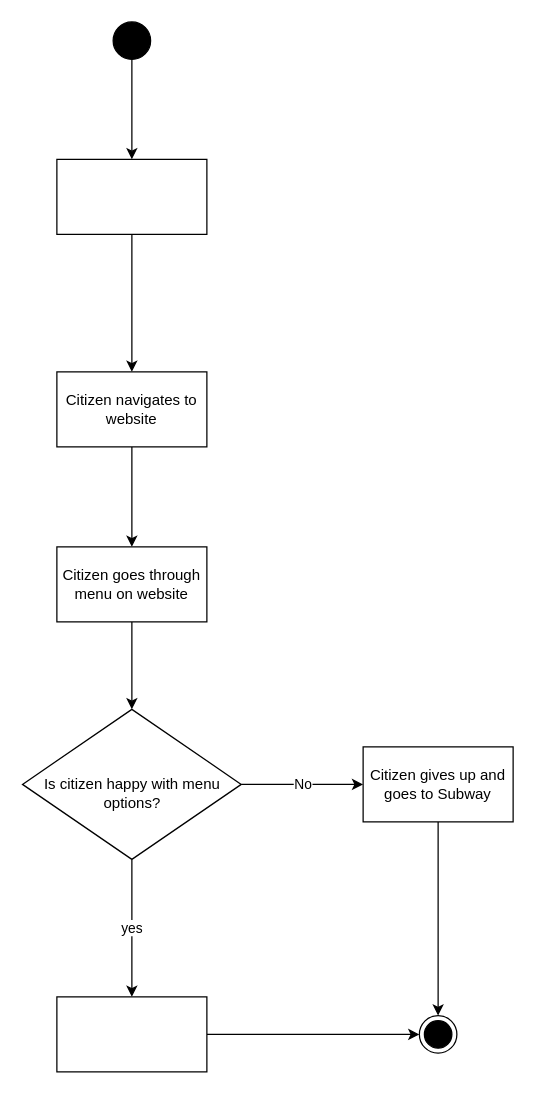
Image size: 535x1094. Some labels were removed from this diagram. The shapes that lost their labels are listed below. From the top down, each one's centre as x and y in pixels, then its label:
the point at 131,196: Citizen looks online for restaurant to visit
the point at 131,1034: Run to restaurant
